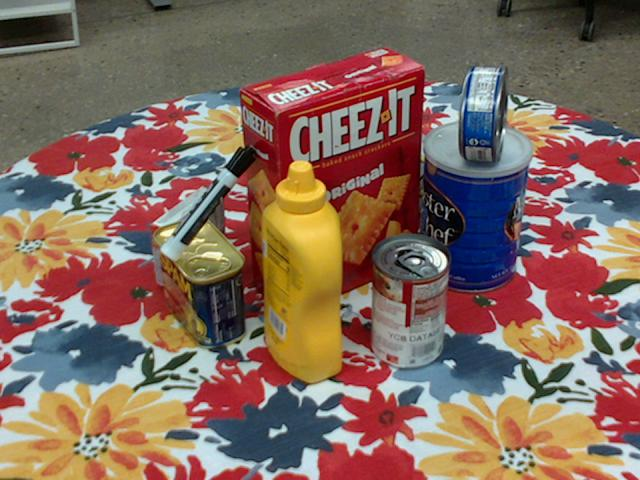cracker_box: (240, 47, 426, 314)
gelatin_box: (151, 185, 225, 291)
large_marker: (160, 143, 256, 260)
master_chef_can: (421, 121, 531, 295)
mug: (265, 123, 358, 222)
mustard_bottle: (264, 160, 342, 384)
potted_meat_can: (154, 217, 247, 349)
sugar_box: (322, 88, 480, 217)
tomato_soup_can: (371, 234, 451, 370)
tuna_fish_can: (461, 66, 507, 162)
